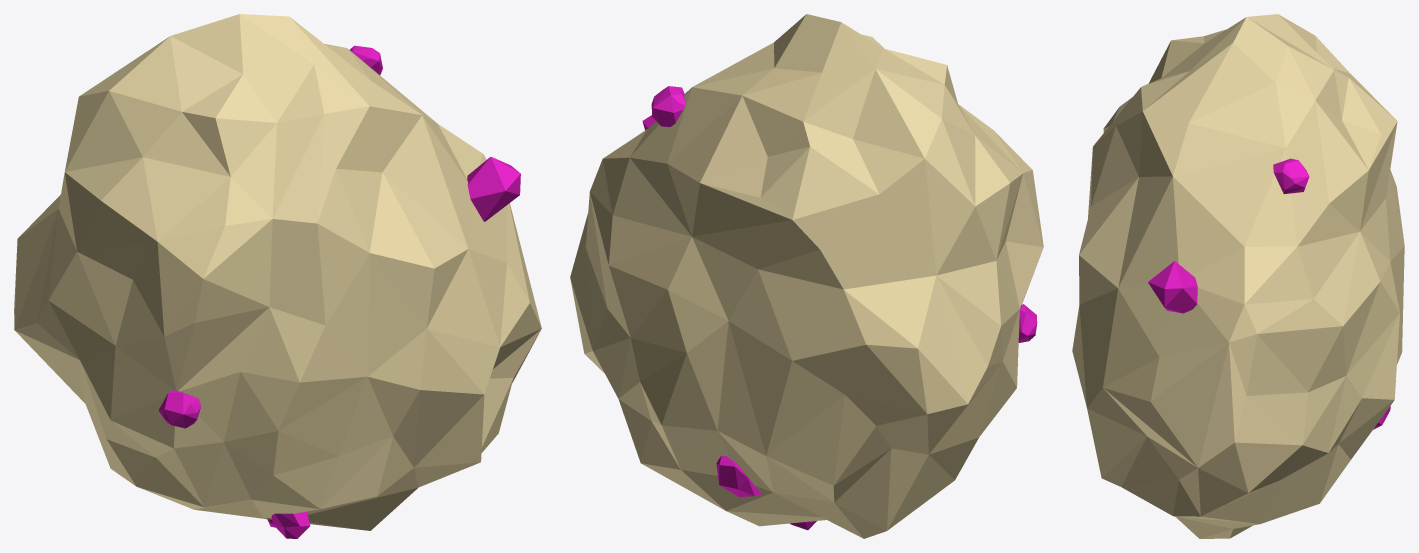
File: CrystalOre (52).fbx
3 views of the same model, side by side, from view 1: azimuth 30°, elevation 25°; view 2: azimuth 150°, elevation 25°; view 3: azimuth 270°, elevation 25° (orthographic). The views are drawn at different scales.
Parts seen in each view (by area): view 1: Asteroid272; view 2: Asteroid272; view 3: Asteroid272.
Part boxes in pixels (x1,y1,x2,y2): Asteroid272: [14, 14, 541, 538]; Asteroid272: [570, 14, 1043, 538]; Asteroid272: [1072, 14, 1404, 538].
Bounding box in the file's own units: 450 × 492 × 312.
